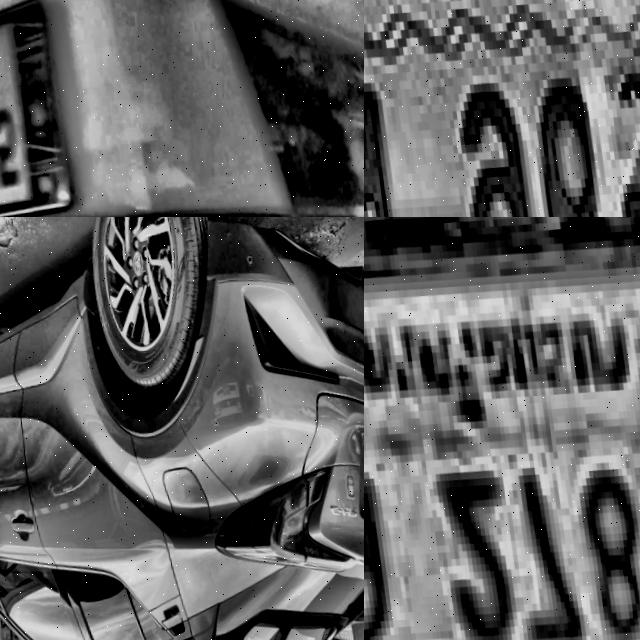license-plate: (364, 217, 640, 640), (364, 0, 640, 217)
